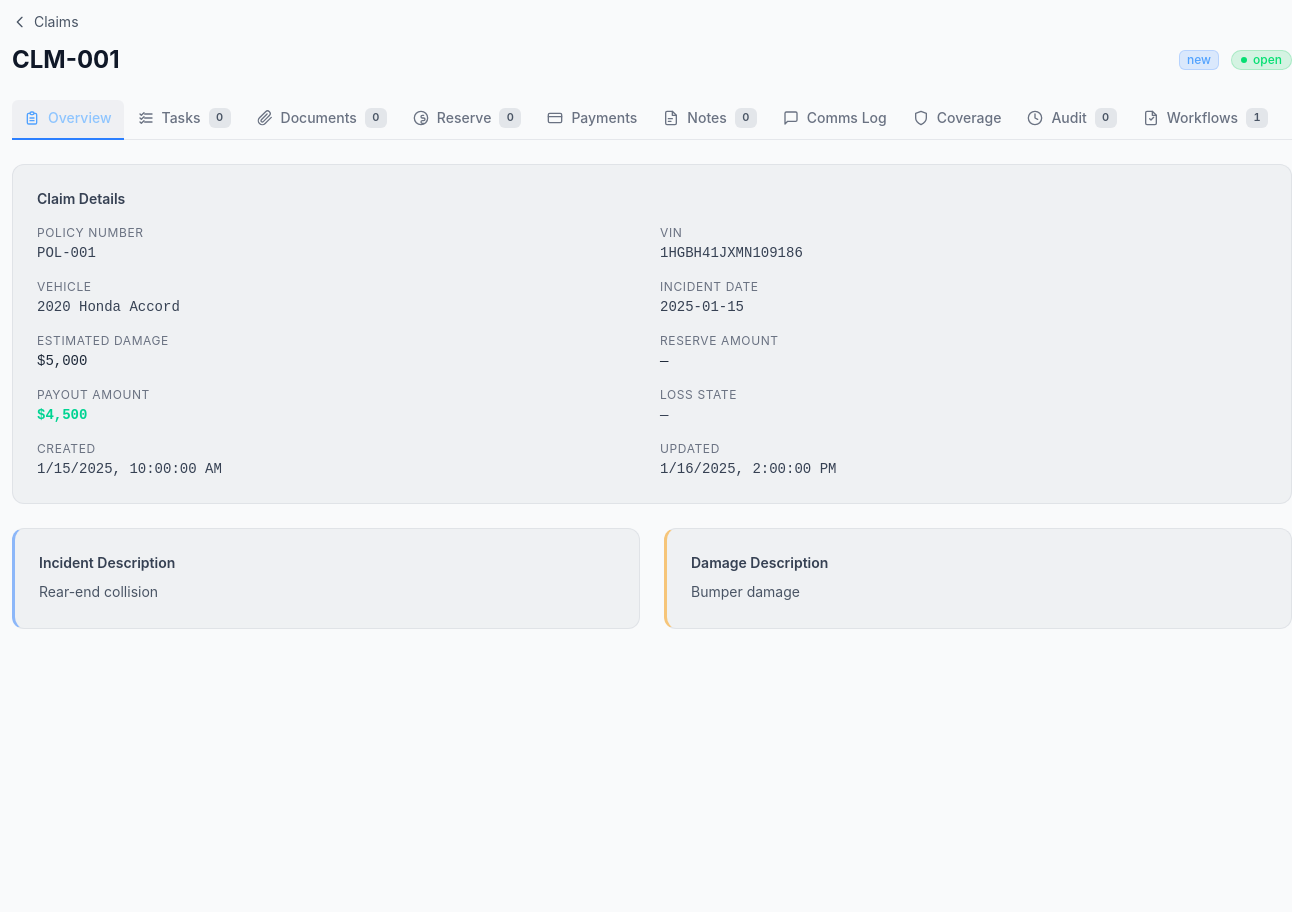
Test: ClaimDetail › shows workflow runs when present
Click the tab "Workflows 1" at x=1205, y=120, box [1131,100,1280,140]
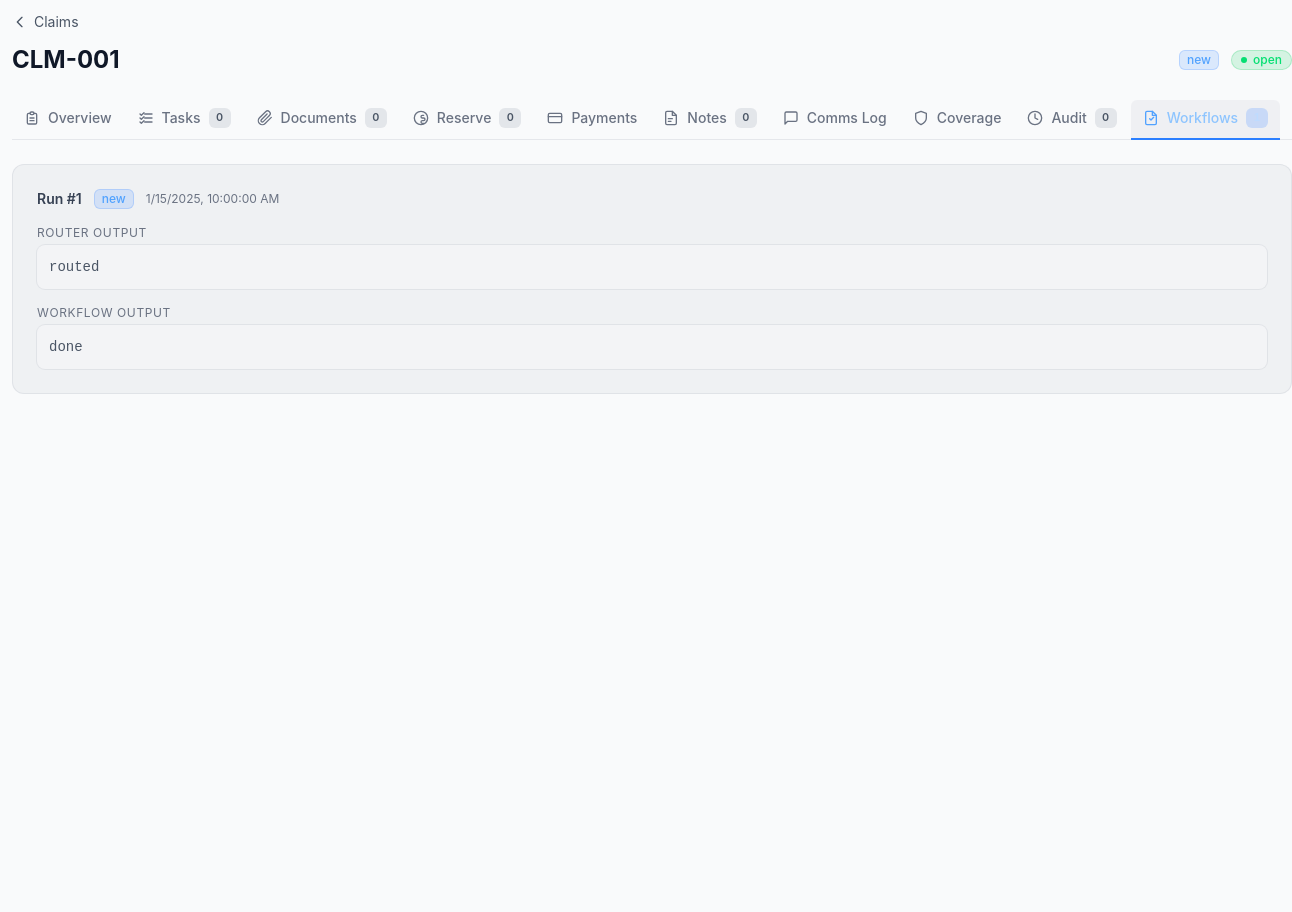
Expected: the heading "Run #1" is shown, [37,189,82,209]
Expected: the text "routed" is shown, [49,259,99,275]
Expected: the text "done" is shown, [49,339,83,355]
